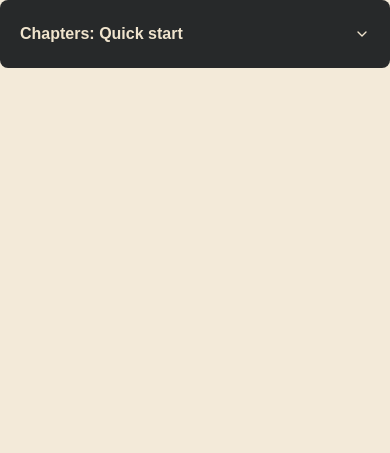
Scenario: reduced motion opens and closes immediately
Later steps or results of the test are not shown.
Step 1. Click the heading "Chapters: Quick start" → [60, 34], box [20,25,370,42]
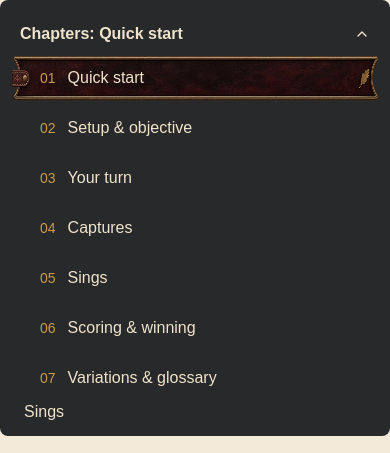
Expected: the heading "Chapters: Quick start" is expanded, [20,25,370,42]
